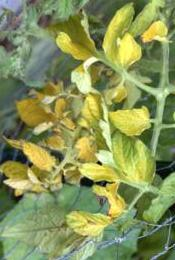Tomato leaf yellow virus: (0, 194, 132, 260), (110, 121, 157, 190), (140, 169, 175, 240), (103, 32, 143, 76)
